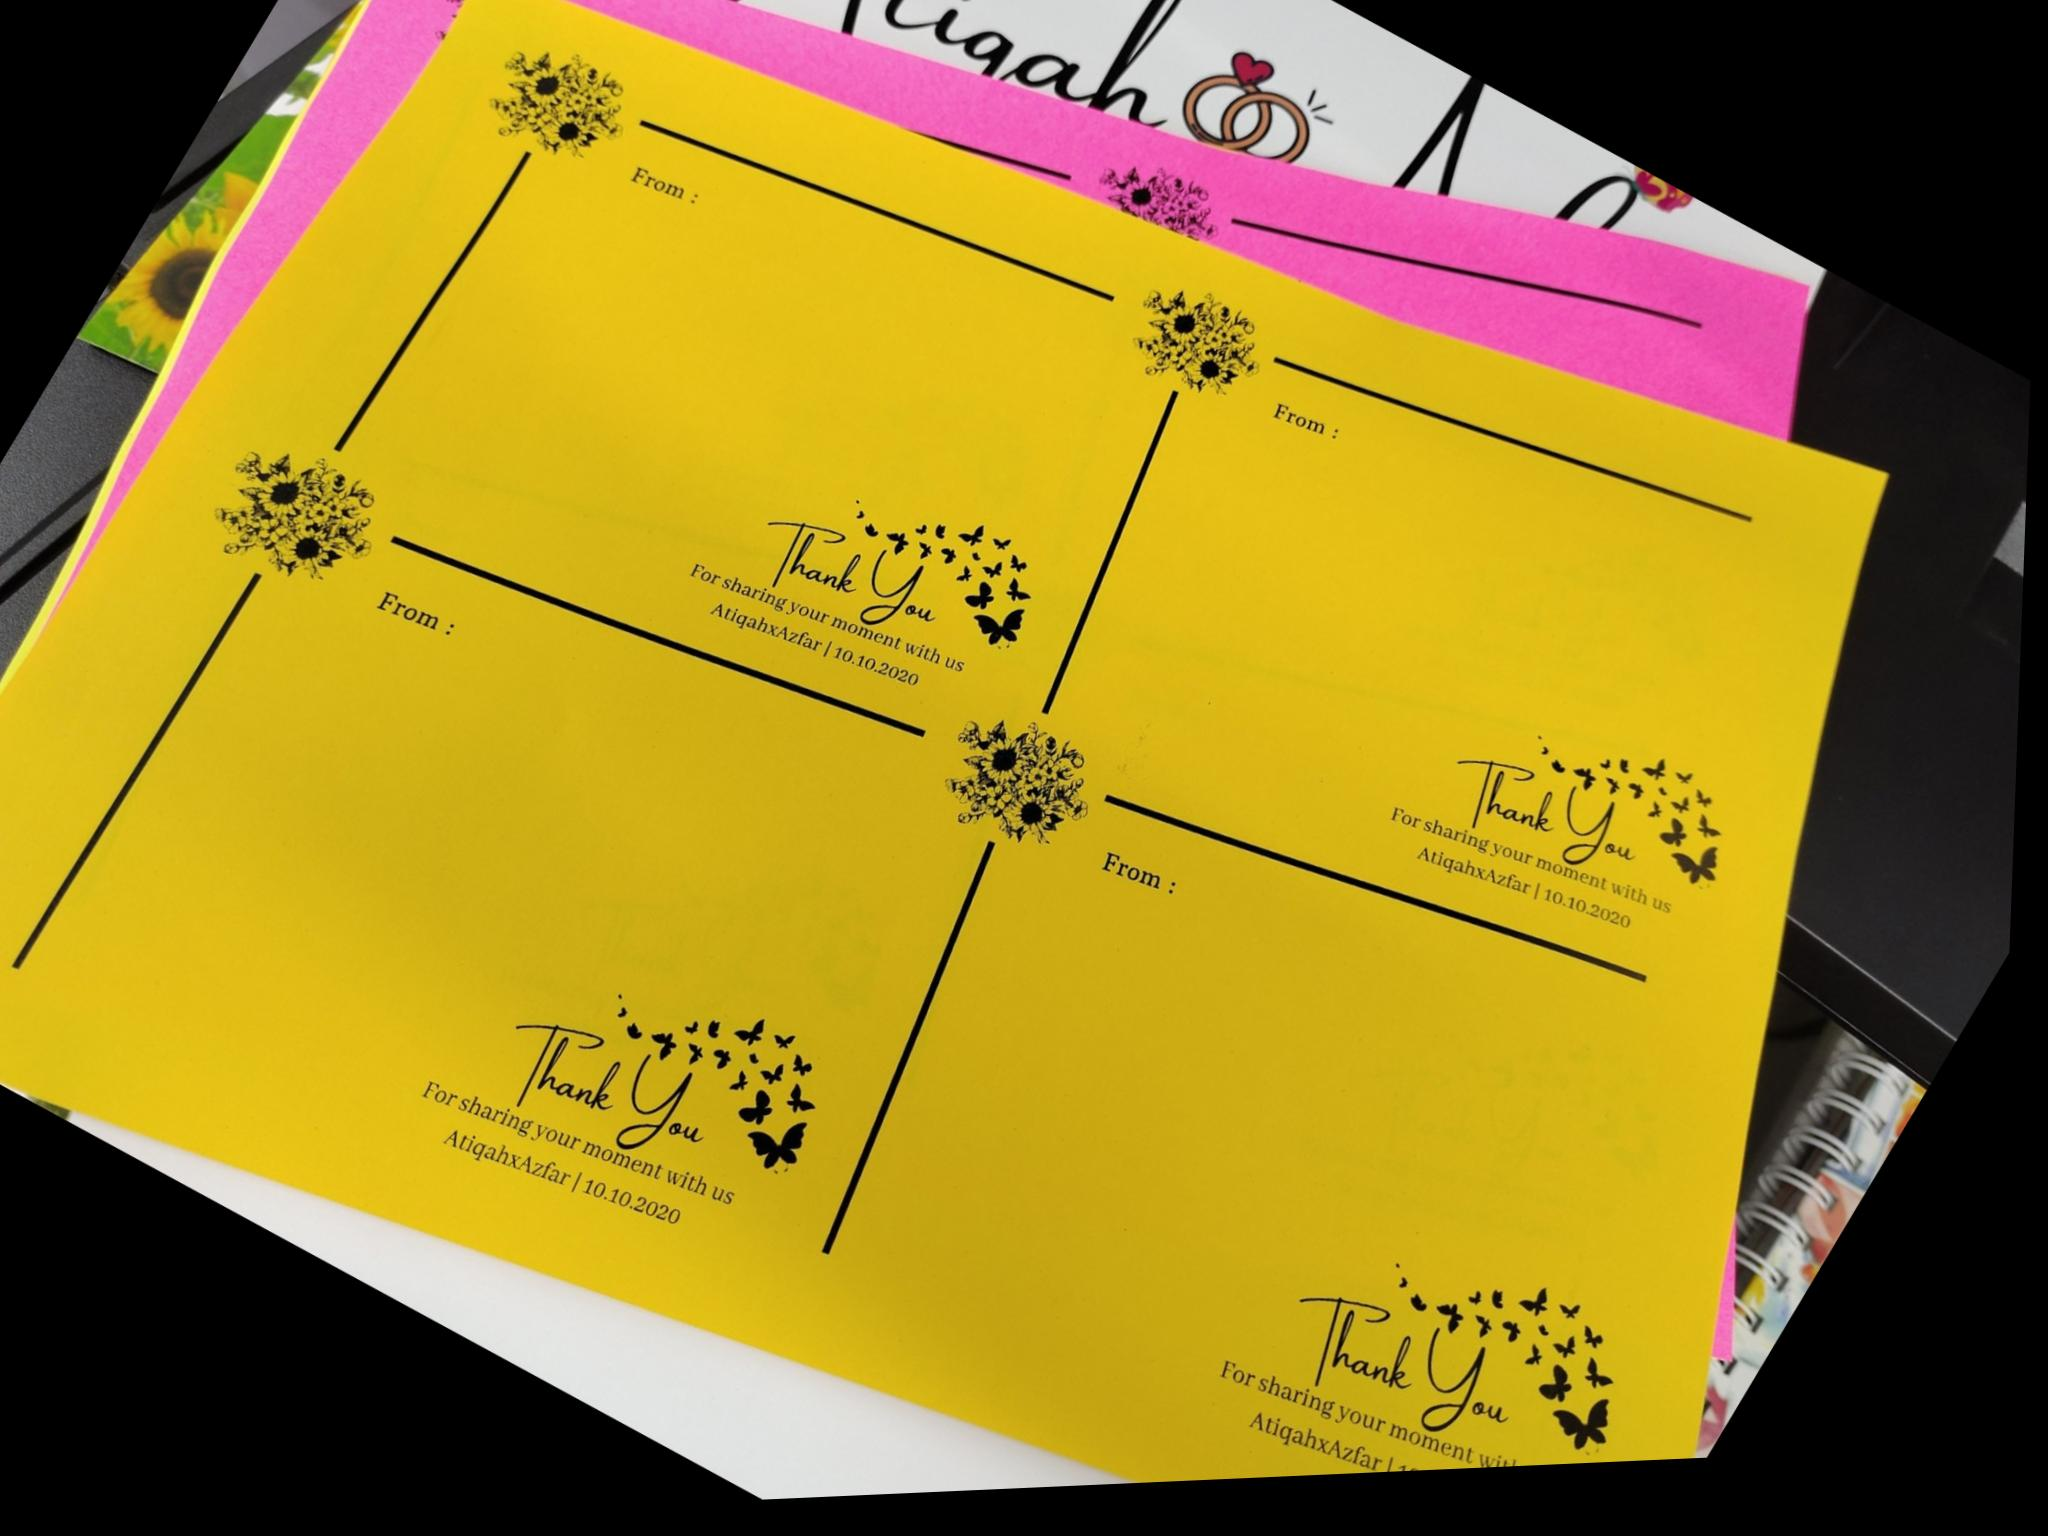paper: (0, 0, 2025, 1534)
